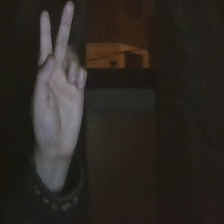K: (26, 1, 93, 168)
